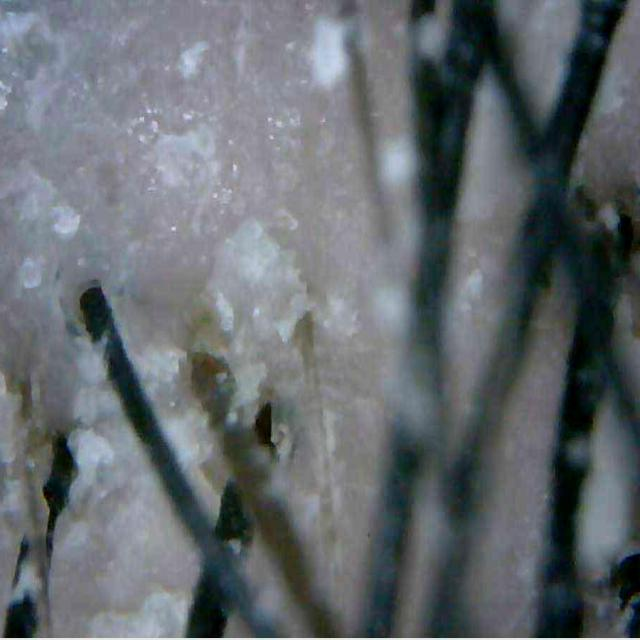d: (209, 222, 305, 341), (160, 403, 225, 517), (155, 125, 219, 188), (68, 428, 115, 510), (4, 538, 40, 639), (312, 17, 346, 88), (72, 388, 120, 428), (234, 363, 268, 408), (51, 206, 81, 236)
